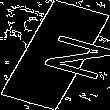N_W: (11, 27, 99, 83)
